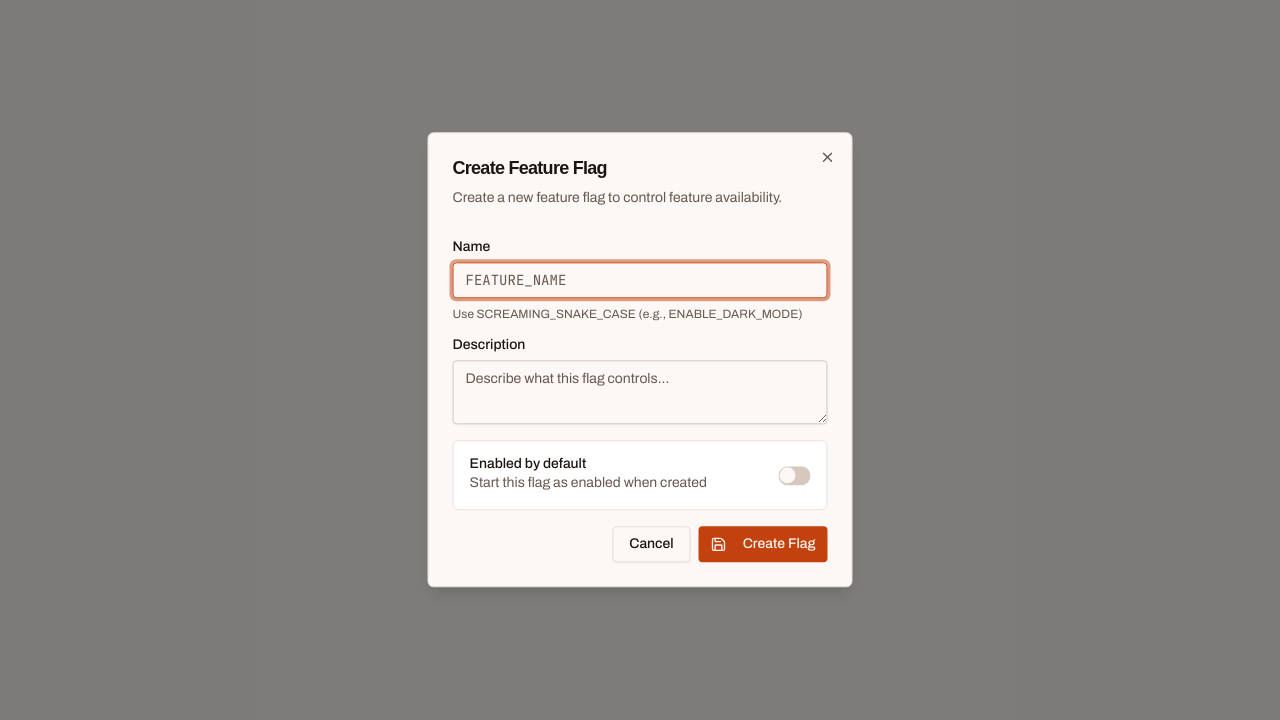
Test: components/admin/feature-flag-form › form validation - create mode › should show error for empty name
The width and height of the screenshot is (1280, 720).
// Submit without filling name
Step 1. Click the button "Create Flag" → coordinates (763, 545), box [699,527,828,563]
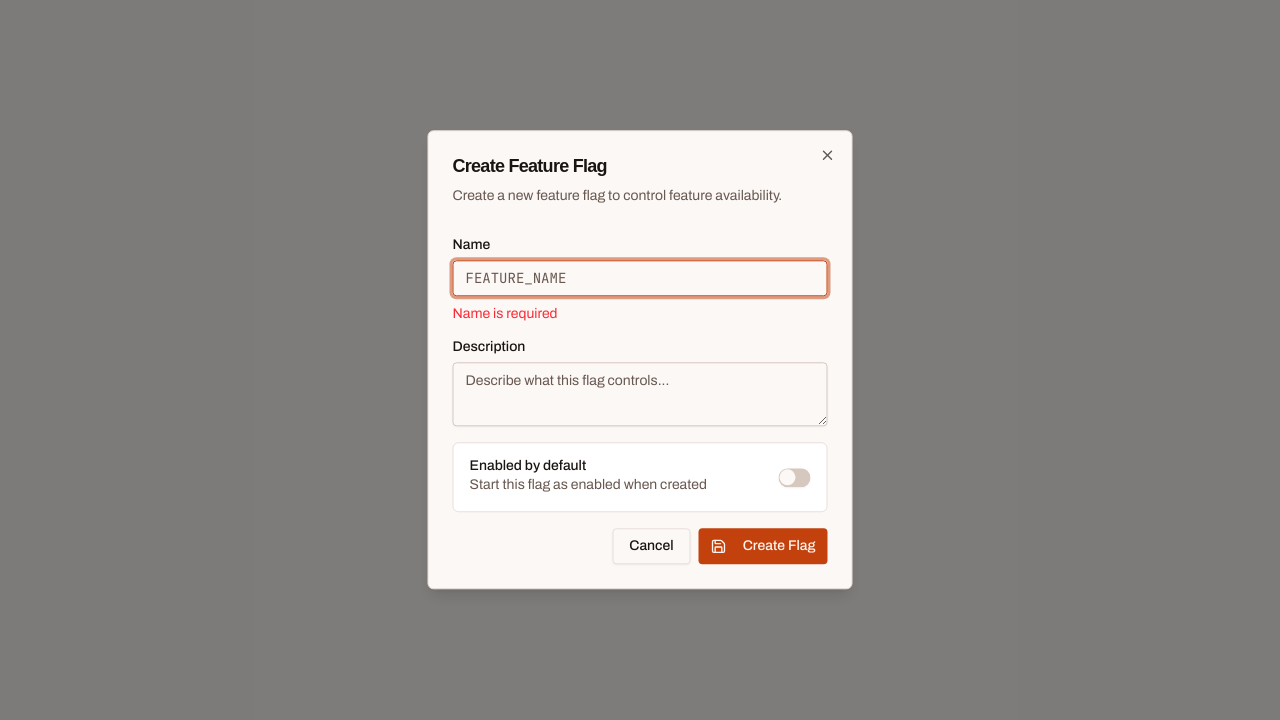
Expected: the text "Name is required" is shown, [452,307,558,322]
